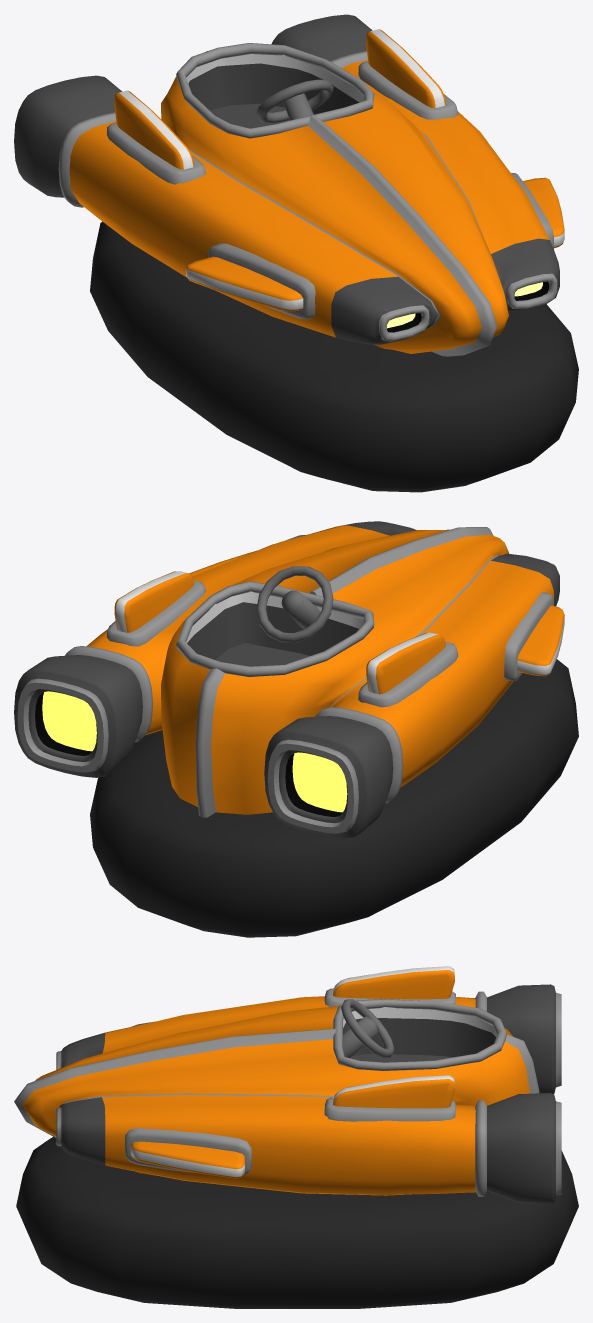
The model's file is mesh_Car_InGame_C.fbx.
3 views of the same model, one above another, from view 1: azimuth 30°, elevation 25°; view 2: azimuth 150°, elevation 25°; view 3: azimuth 270°, elevation 25° (orthographic). The views are drawn at different scales.
Visible parts, largest first — view 1: mesh_Car_InGame_C; view 2: mesh_Car_InGame_C; view 3: mesh_Car_InGame_C.
Boxes of the visible parts, left/top/right/bottom form: mesh_Car_InGame_C: left=14, top=14, right=578, bottom=492; mesh_Car_InGame_C: left=14, top=521, right=578, bottom=937; mesh_Car_InGame_C: left=14, top=966, right=578, bottom=1308.
Bounding box in the file's own units: 1.97 × 1.5 × 2.98.
